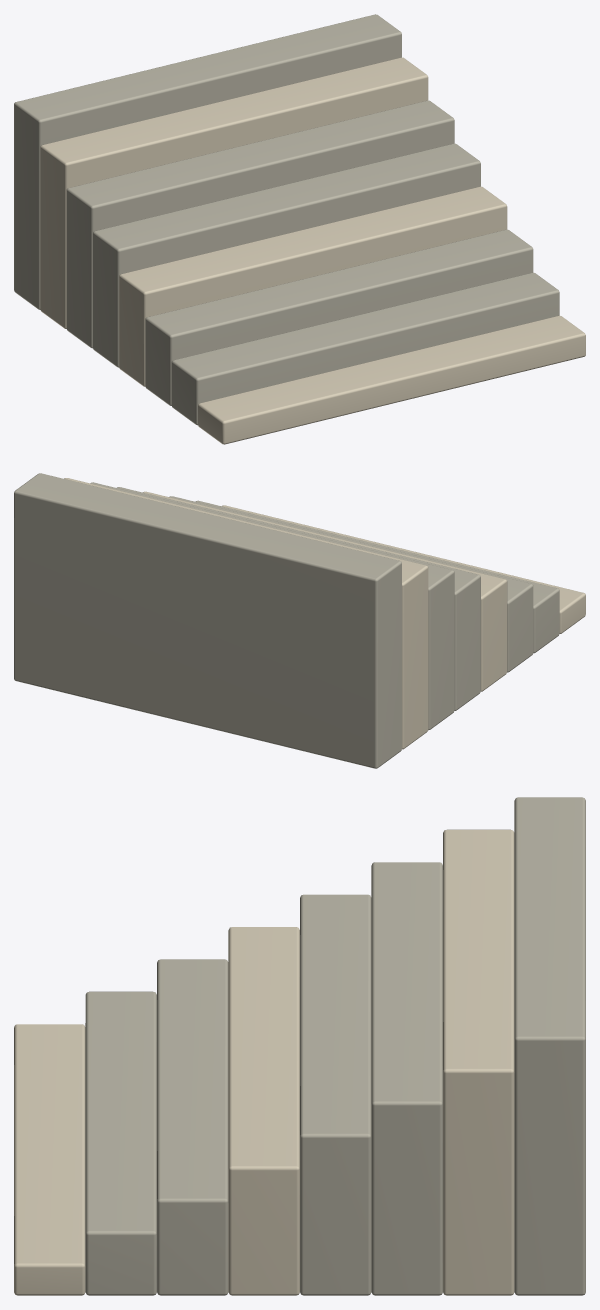
File: SM_Stairs_Stone_4x4.fbx
3 renders of one model, top to bottom at view 1: azimuth 30°, elevation 25°; view 2: azimuth 150°, elevation 25°; view 3: azimuth 270°, elevation 25°, orthographic. The views are drawn at different scales.
Visible parts, largest first — view 1: SM_Stairs_Stone_4x4; view 2: SM_Stairs_Stone_4x4; view 3: SM_Stairs_Stone_4x4.
Part boxes in pixels (x1,y1,x2,y2): SM_Stairs_Stone_4x4: (14, 14, 585, 444); SM_Stairs_Stone_4x4: (14, 473, 585, 768); SM_Stairs_Stone_4x4: (14, 797, 585, 1295).
Size of the model in its own units: 4 by 2 by 4.
